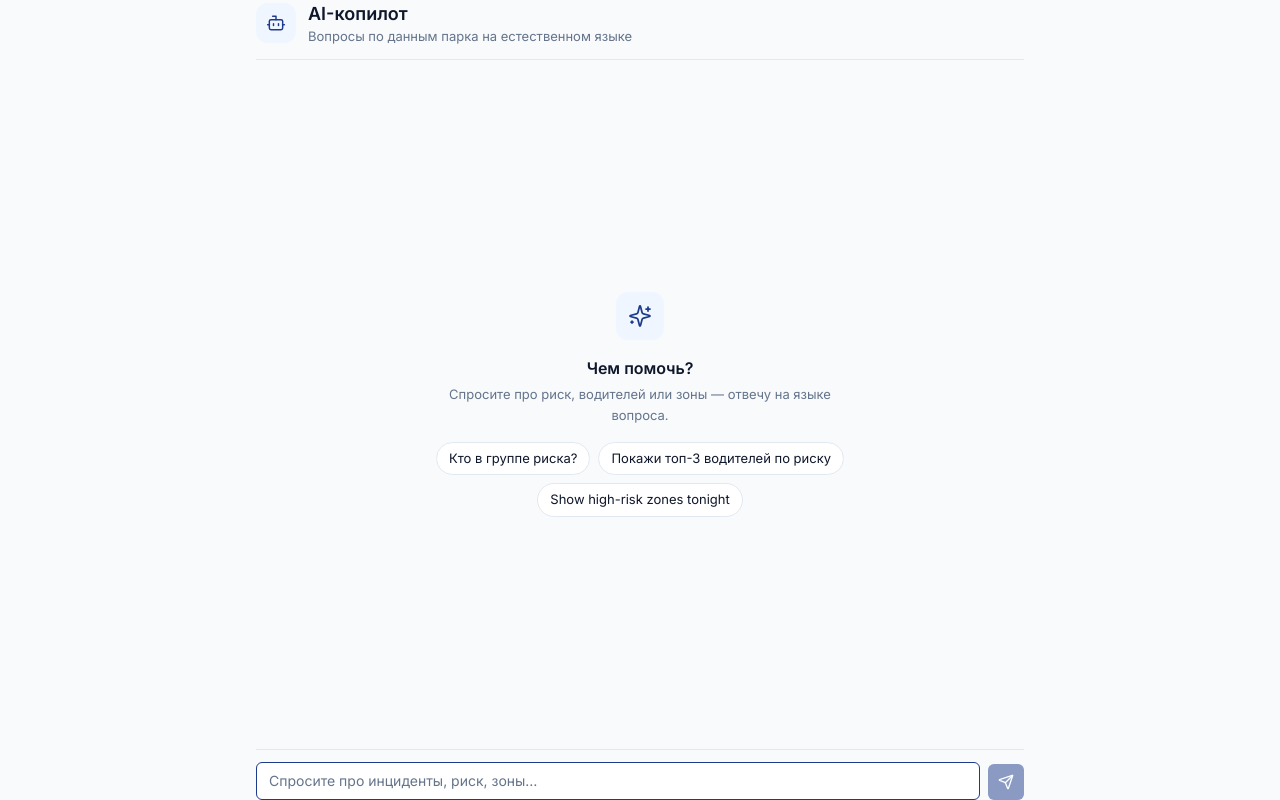
Test case: f17 · Copilot › ввод → ответ ассистента + «Связанные данные» со ссылкой на экран
Type "Покажи топ-3 водителей по риску" into the text box.
click(618, 781); type("Покажи топ-3 водителей по риску")  # box [256,762,980,799]
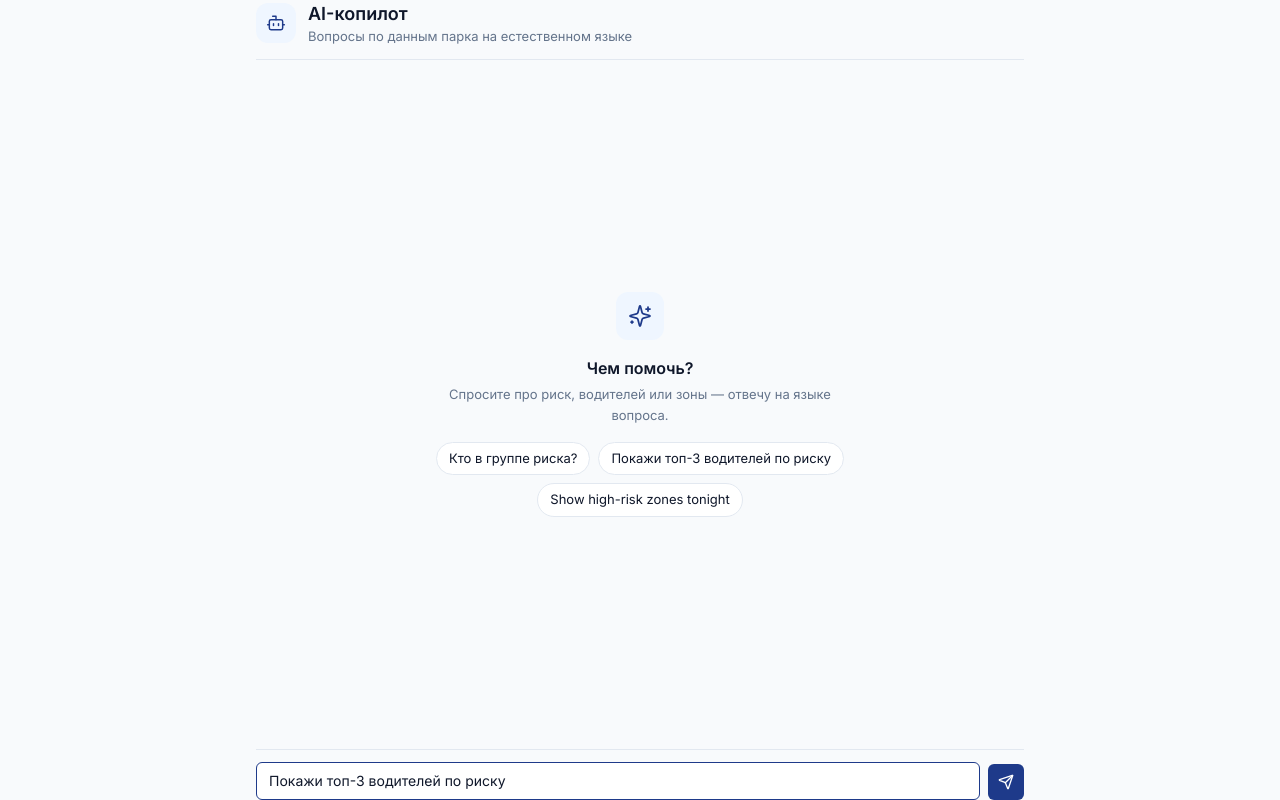
Click the button named "Отправить".
click(1006, 782)  # box [988,764,1024,799]
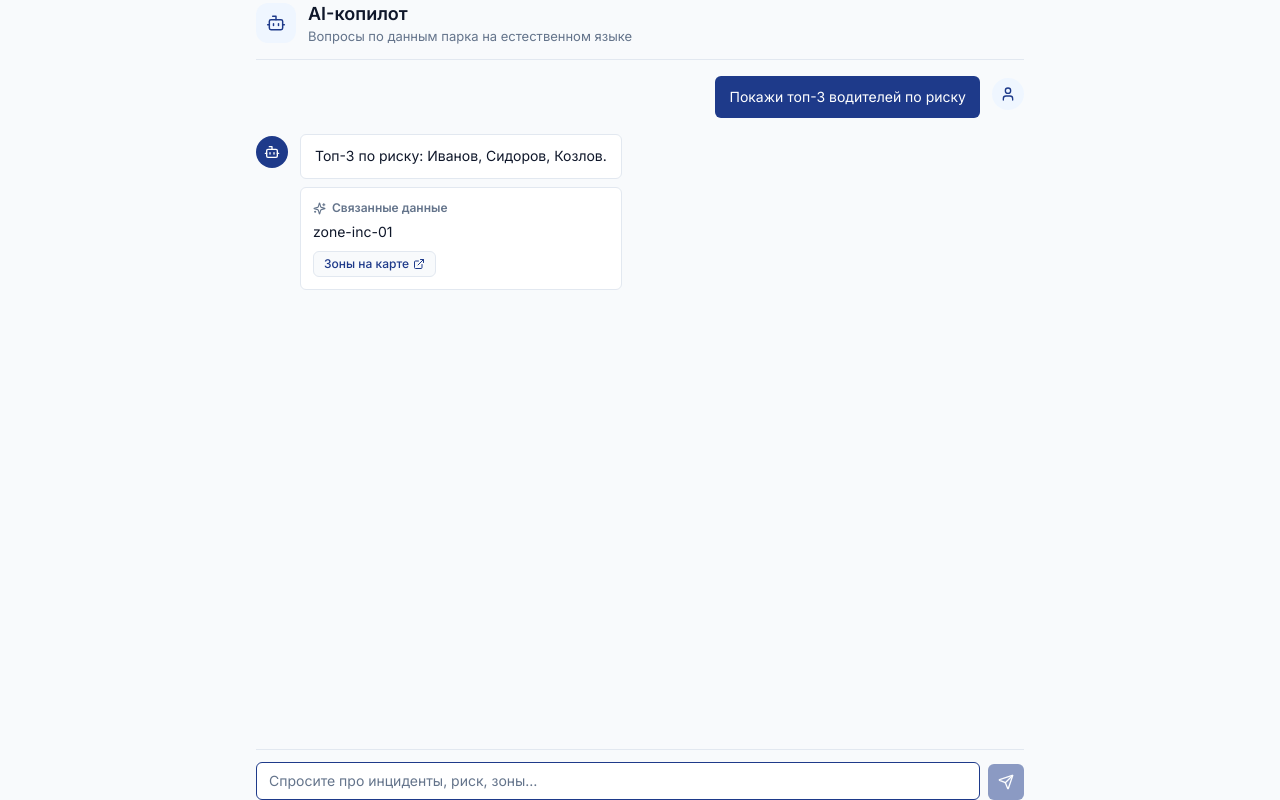
expect the text "Покажи топ-3 водителей по риску" is shown: met, box [716,76,980,118]
expect the text "Топ-3 по риску: Иванов, Сидоров, Козлов." is shown: met, box [300,134,622,179]
